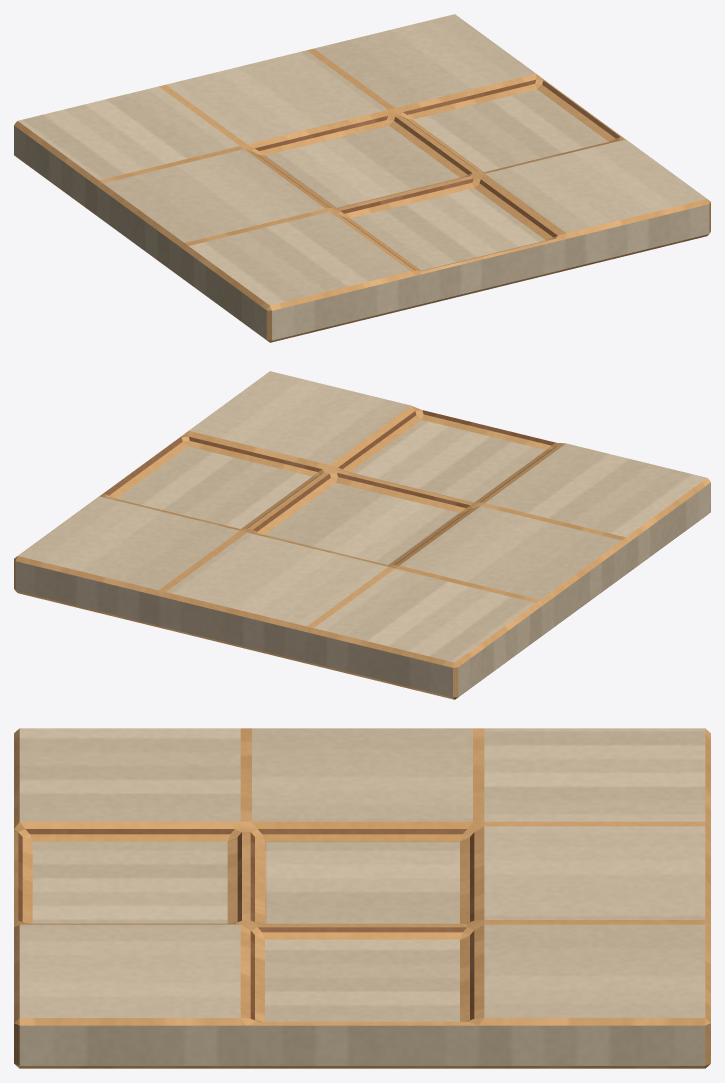
The model's file is sm_terrain_tile_path_corner.glb.
3 renders of one model, top to bottom at view 1: azimuth 30°, elevation 25°; view 2: azimuth 150°, elevation 25°; view 3: azimuth 270°, elevation 25°, orthographic. The views are drawn at different scales.
Parts seen in each view (by area): view 1: sm_terrain_tile_path_corner; view 2: sm_terrain_tile_path_corner; view 3: sm_terrain_tile_path_corner.
Part boxes in pixels (x1,y1,x2,y2): sm_terrain_tile_path_corner: [14, 14, 710, 342]; sm_terrain_tile_path_corner: [14, 371, 710, 699]; sm_terrain_tile_path_corner: [14, 728, 710, 1068].
Size of the model in its own units: 1 by 0.08 by 1.
1 material, 1 textured.
